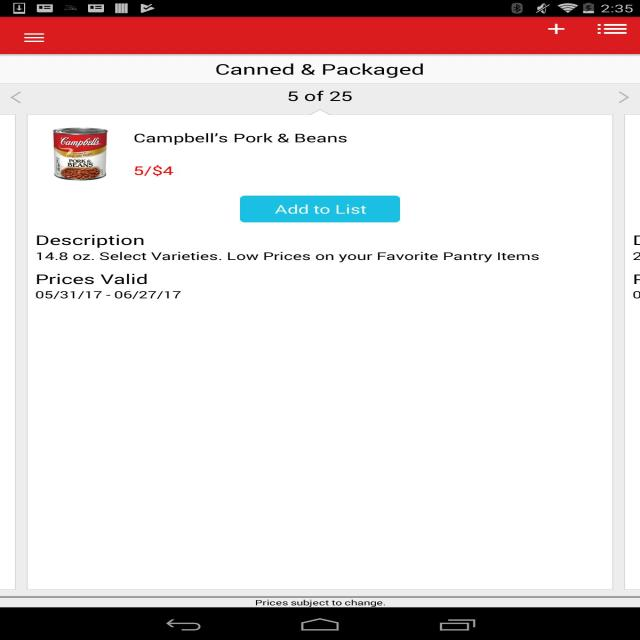button: (238, 195, 400, 222), (594, 21, 636, 38), (21, 30, 54, 46), (544, 23, 570, 36)
heading: (212, 64, 429, 80)
image: (41, 124, 112, 183)
text: (32, 232, 544, 304), (128, 130, 352, 147), (284, 87, 357, 107), (128, 163, 174, 178)
